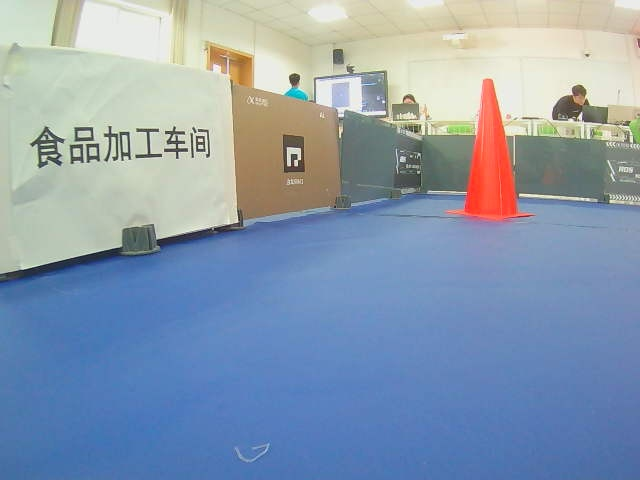target: (28, 123, 213, 170)
